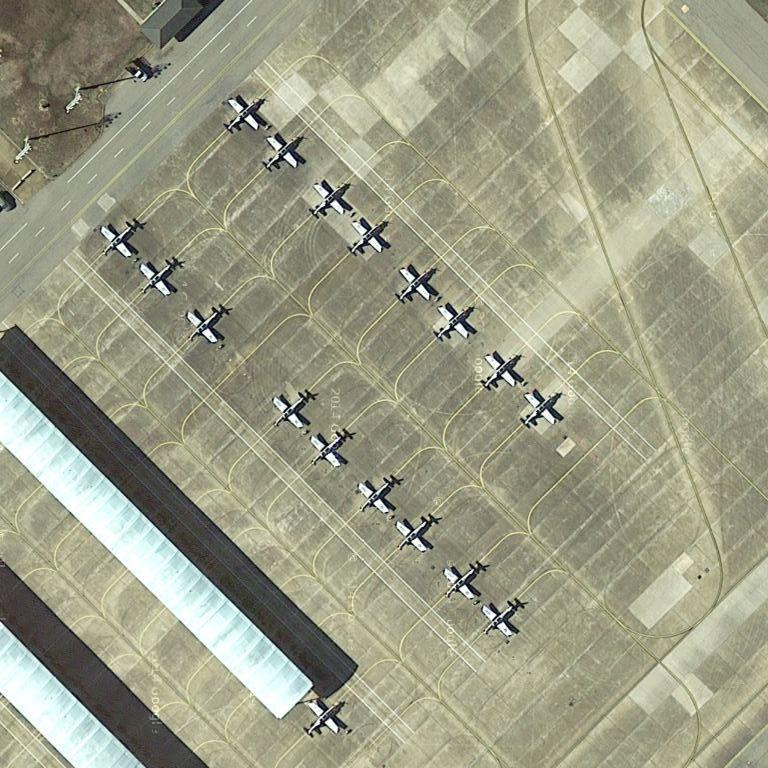plane: (182, 301, 228, 347), (392, 263, 440, 307), (300, 698, 348, 741), (477, 351, 522, 396), (430, 303, 477, 346), (442, 559, 485, 606), (345, 216, 389, 261), (356, 472, 400, 517), (258, 133, 303, 176), (517, 389, 560, 433), (137, 255, 180, 299), (221, 94, 266, 136), (481, 596, 523, 641), (308, 180, 352, 222), (98, 217, 142, 259), (395, 512, 437, 555), (310, 427, 352, 470), (271, 388, 311, 432)
